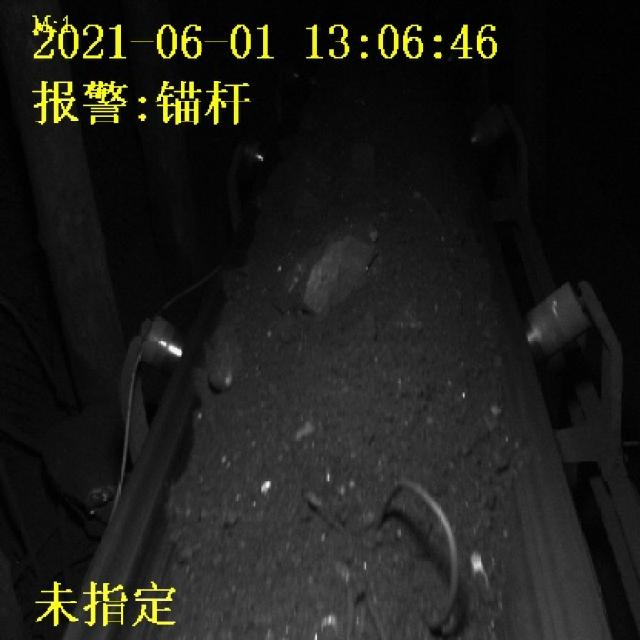bolt: (305, 480, 460, 632)
large_sized_coal: (277, 229, 380, 322)
